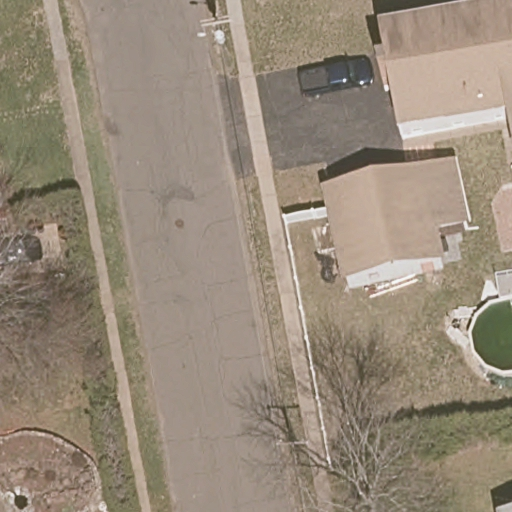DT: (196, 8, 232, 45), (276, 427, 309, 466)
